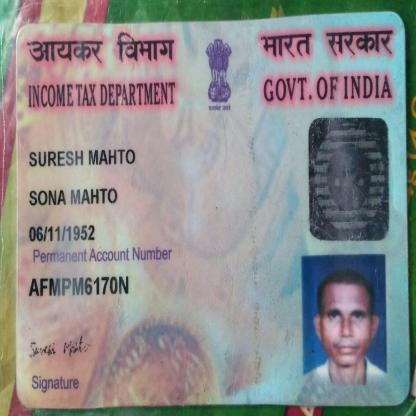pan_card: (10, 15, 411, 406)
